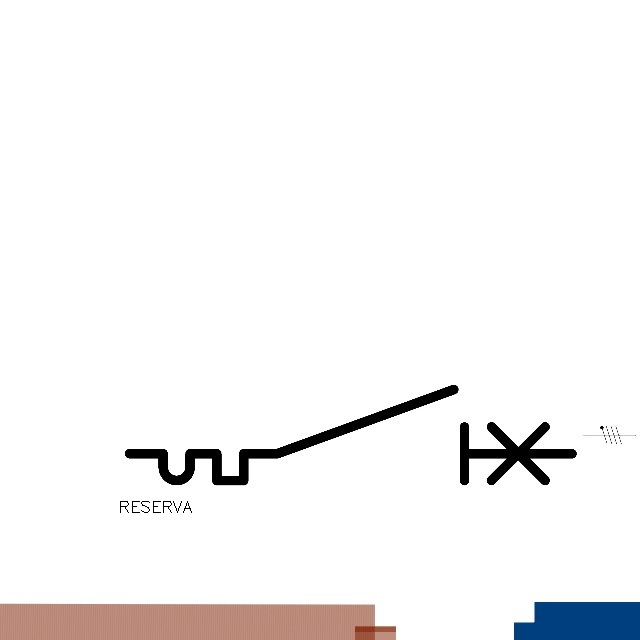interruptor_termomagnetico: (118, 378, 583, 492)
